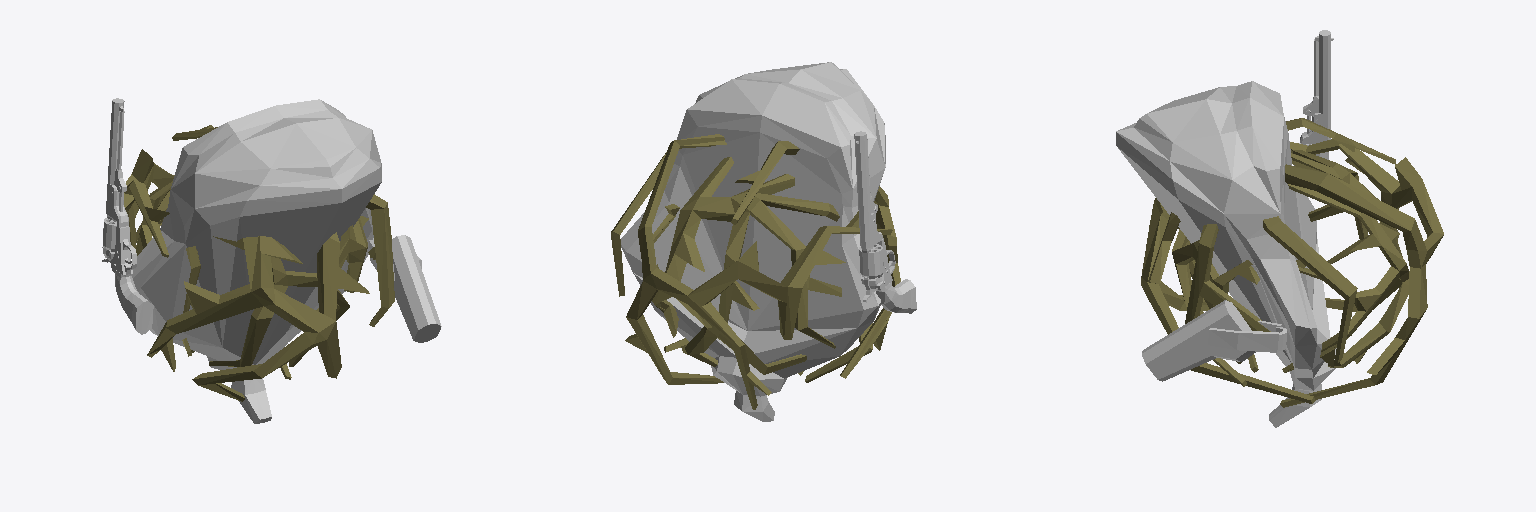
File: aggressivetumbleweed.obj
3 views of the same model, side by side, from view 1: azimuth 30°, elevation 25°; view 2: azimuth 150°, elevation 25°; view 3: azimuth 270°, elevation 25° (orthographic).
Parts seen in each view (by area): view 1: SM_CharacterAttachments_Bandana_01, SM_Prop_Tumbleweed_01, SM_Wep_Revolver_02, SM_CharacterAttachment_Holster_01; view 2: SM_CharacterAttachments_Bandana_01, SM_Prop_Tumbleweed_01, SM_Wep_Revolver_02, SM_Wep_Revolver_02_Cylander; view 3: SM_CharacterAttachments_Bandana_01, SM_Prop_Tumbleweed_01, SM_CharacterAttachment_Holster_01, SM_Wep_Revolver_02.
Part boxes in pixels (bbox=[...]): SM_CharacterAttachments_Bandana_01: bbox=[132, 99, 381, 423]; SM_Prop_Tumbleweed_01: bbox=[124, 125, 394, 401]; SM_Wep_Revolver_02: bbox=[102, 98, 153, 334]; SM_CharacterAttachment_Holster_01: bbox=[369, 235, 441, 342]; SM_CharacterAttachments_Bandana_01: bbox=[621, 62, 885, 421]; SM_Prop_Tumbleweed_01: bbox=[611, 134, 900, 409]; SM_Wep_Revolver_02: bbox=[854, 131, 916, 313]; SM_Wep_Revolver_02_Cylander: bbox=[859, 244, 883, 278]; SM_CharacterAttachments_Bandana_01: bbox=[1116, 81, 1336, 427]; SM_Prop_Tumbleweed_01: bbox=[1141, 118, 1443, 407]; SM_CharacterAttachment_Holster_01: bbox=[1142, 300, 1286, 381]; SM_Wep_Revolver_02: bbox=[1294, 30, 1333, 165].
Bounding box in the file's own units: 0.6521 × 0.7729 × 0.6896.